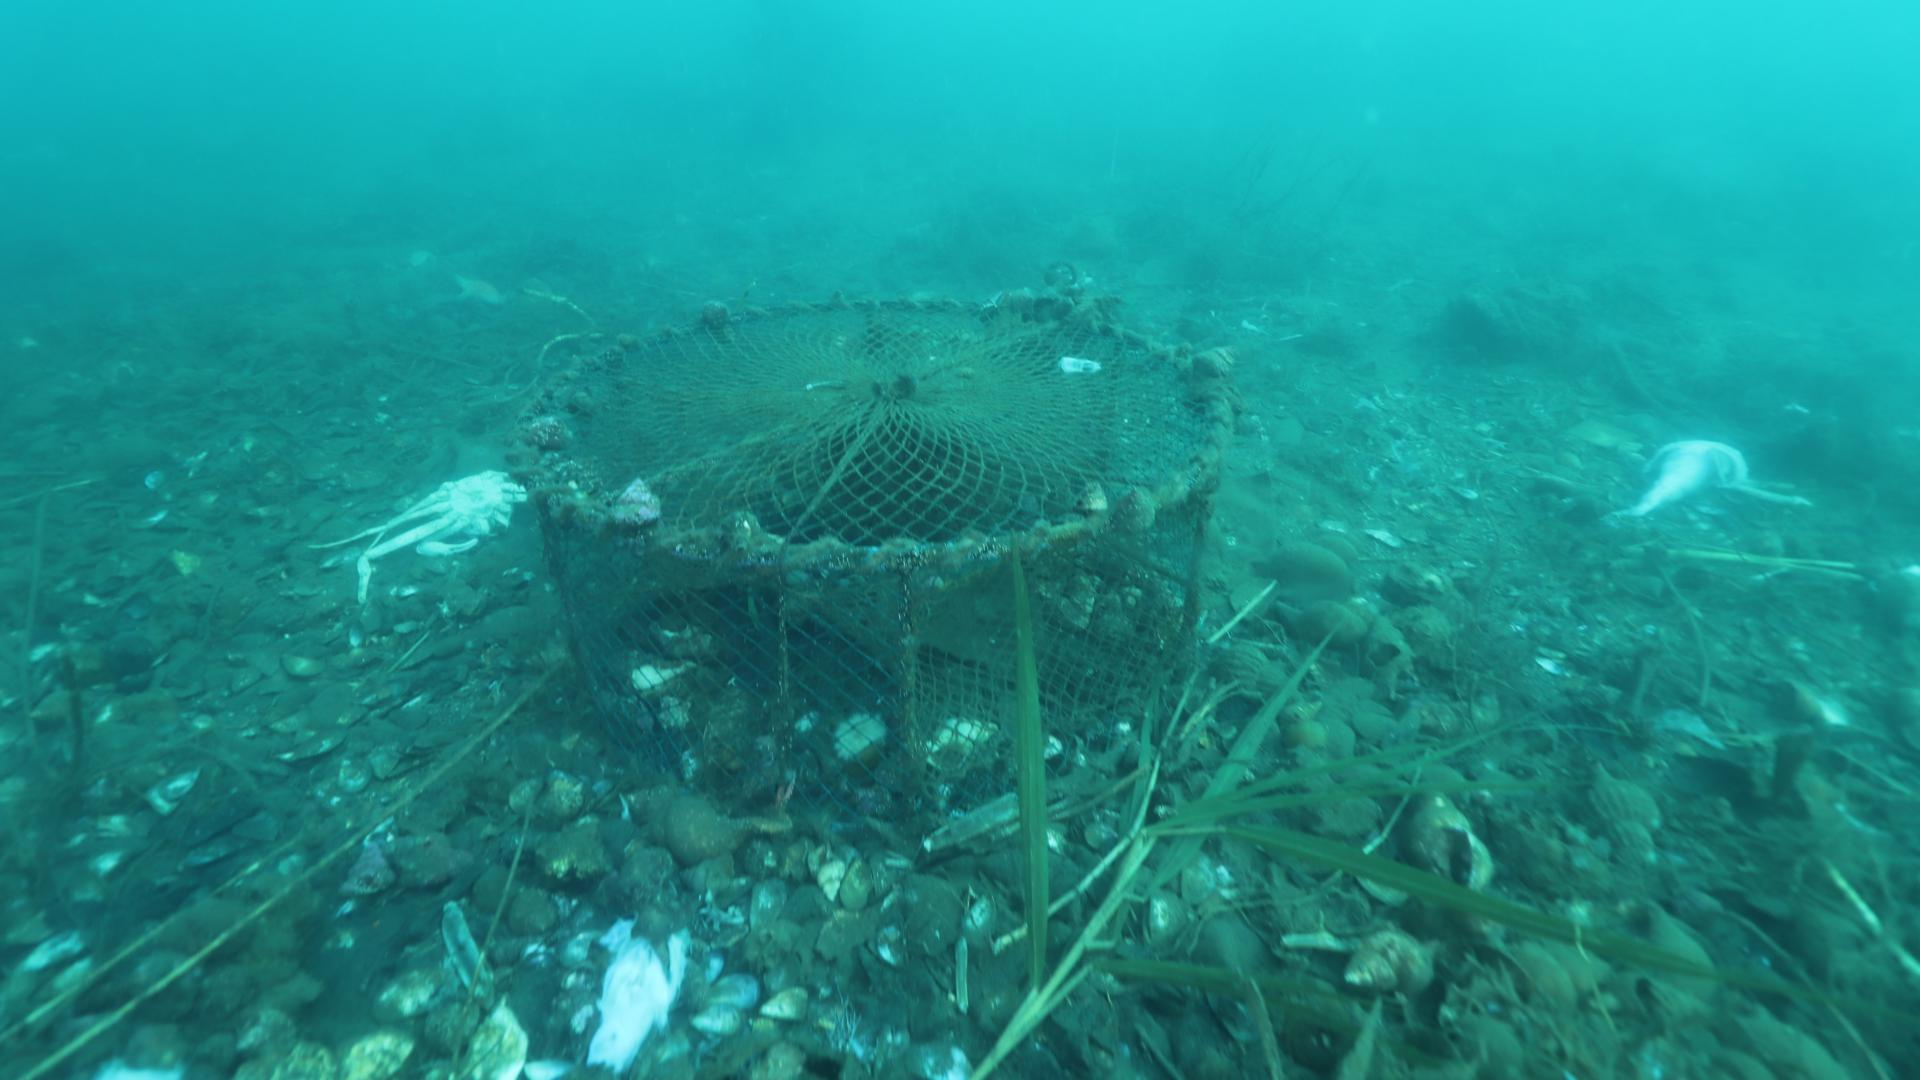circular fish trap: (518, 282, 1232, 822)
